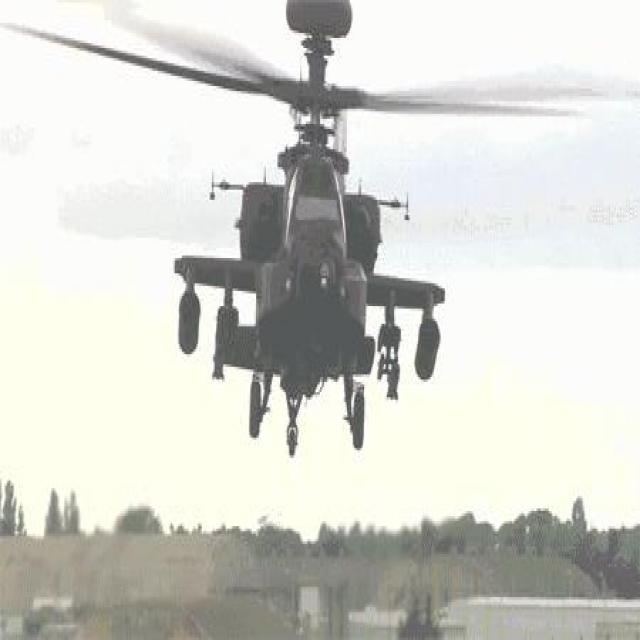MIL_HELO: (10, 0, 640, 463)
